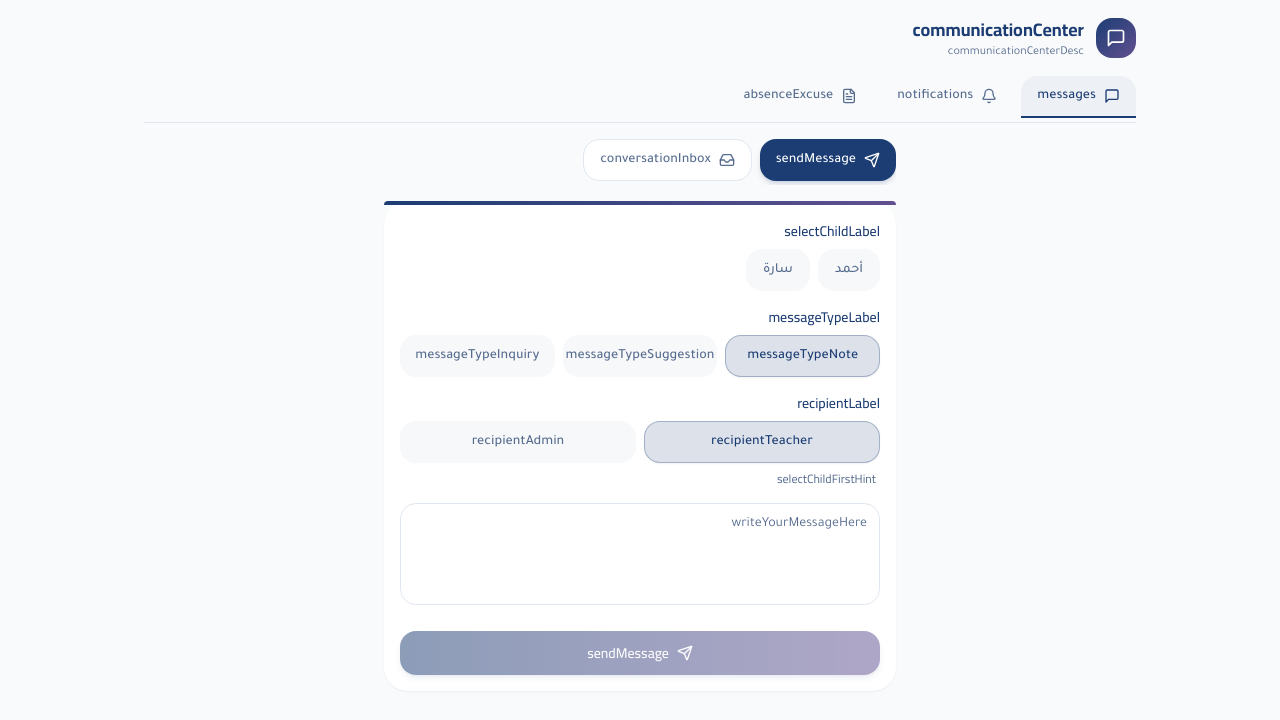
it: ParentCommunicationCenter — required child context › shows the "بخصوص" student badge on inbox rows that carry student_name
Click the button "conversationInbox": (667, 160) [583,139,752,181]
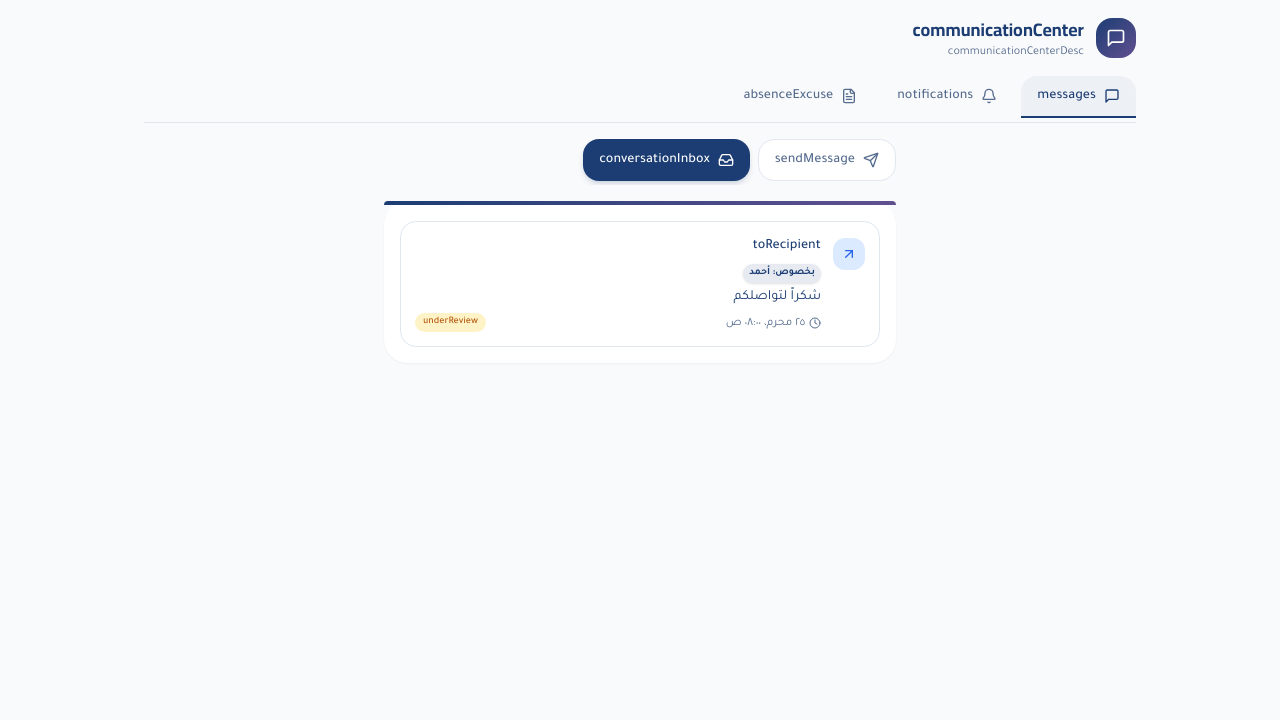
Expected: the text "بخصوص: أحمد" is shown, [743,264,821,283]
